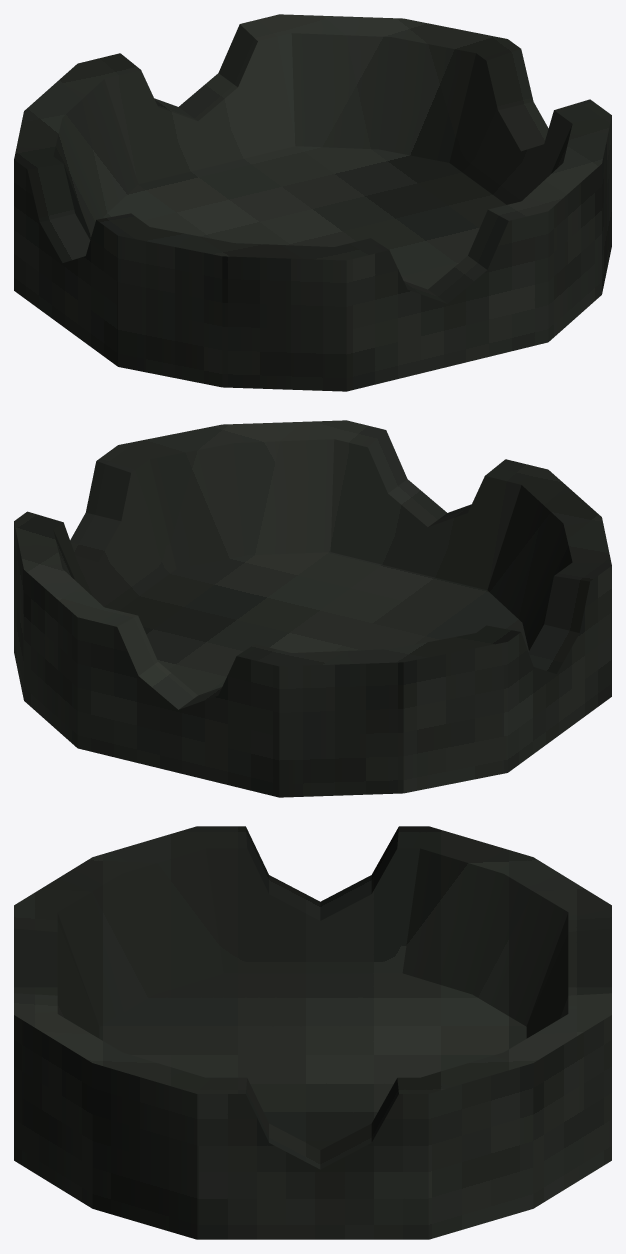
The model's file is AshtrayEmpty.fbx.
3 renders of one model, top to bottom at view 1: azimuth 30°, elevation 25°; view 2: azimuth 150°, elevation 25°; view 3: azimuth 270°, elevation 25°, orthographic. The views are drawn at different scales.
Visible parts, largest first — view 1: AshtrayEmpty; view 2: AshtrayEmpty; view 3: AshtrayEmpty.
Boxes of the visible parts, x1,y1,x2,y2 form: AshtrayEmpty: (14, 14, 611, 391); AshtrayEmpty: (14, 420, 611, 797); AshtrayEmpty: (14, 826, 611, 1239).
Size of the model in its own units: 0.0865 by 0.0219 by 0.0816.
1 material, 1 textured.
